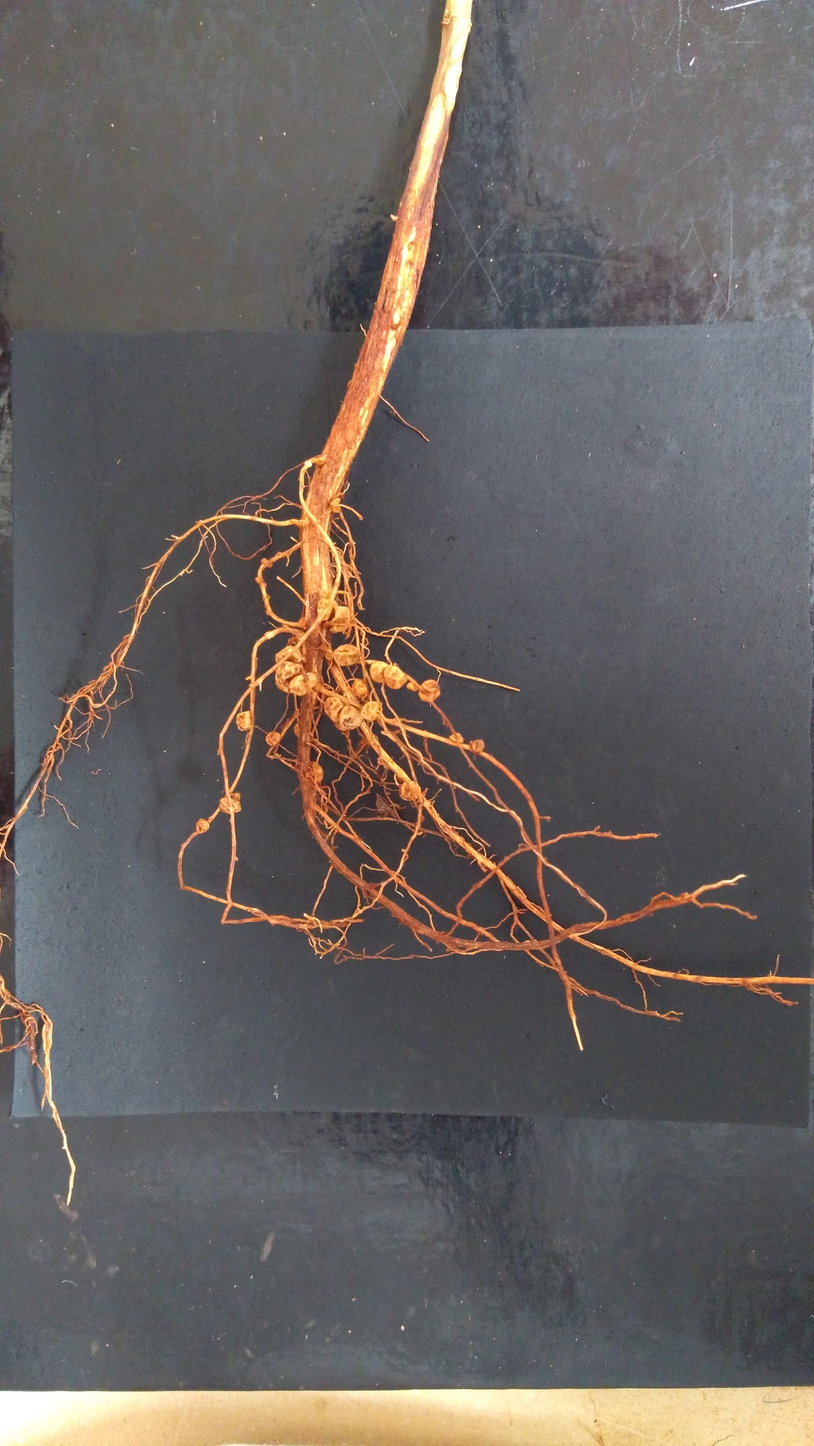nodule: (275, 661, 302, 694), (321, 605, 350, 634), (323, 696, 345, 730), (288, 672, 318, 696), (338, 704, 364, 730), (333, 643, 362, 666), (374, 792, 399, 818), (383, 665, 409, 689), (317, 597, 340, 622), (417, 679, 441, 702), (287, 636, 307, 663), (399, 780, 423, 801), (275, 646, 302, 664), (219, 792, 241, 813), (369, 661, 389, 683), (360, 701, 382, 721), (351, 678, 367, 700), (310, 760, 324, 785), (236, 710, 252, 731), (195, 818, 210, 834), (469, 739, 484, 754), (266, 731, 281, 745), (329, 498, 342, 513), (324, 642, 334, 659), (449, 733, 464, 743), (406, 682, 419, 691), (294, 723, 300, 737), (304, 459, 312, 469), (254, 576, 264, 584), (299, 617, 307, 627), (261, 558, 269, 567), (377, 756, 385, 765), (275, 552, 283, 559), (267, 562, 272, 568), (263, 582, 267, 587)
